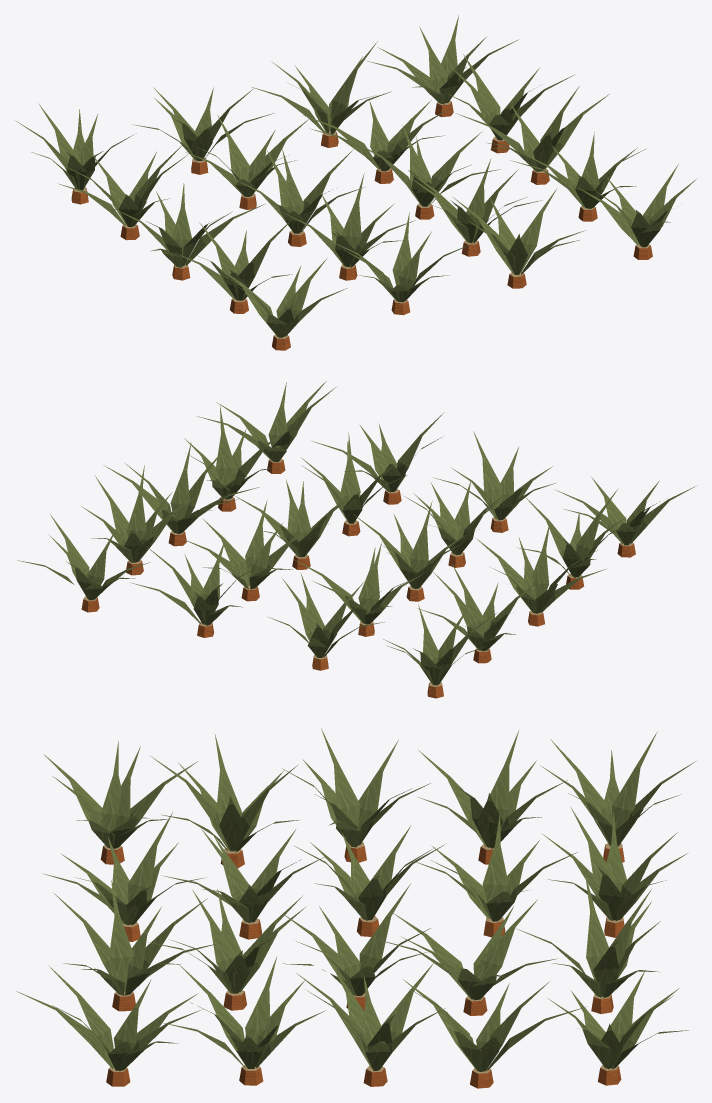
File: crop_carrot_ripe.obj
3 views of the same model, one above another, from view 1: azimuth 30°, elevation 25°; view 2: azimuth 150°, elevation 25°; view 3: azimuth 270°, elevation 25° (orthographic). The views are drawn at different scales.
Visible parts, largest first — view 1: crop_carrot_ripe; view 2: crop_carrot_ripe; view 3: crop_carrot_ripe.
Boxes of the visible parts, x1,y1,x2,y2 form: crop_carrot_ripe: (15,15,696,350); crop_carrot_ripe: (17,381,695,698); crop_carrot_ripe: (16,728,695,1088).
Size of the model in its own units: 1.89 by 0.3147 by 1.8.
Materials: 1 (1 with a texture image).
